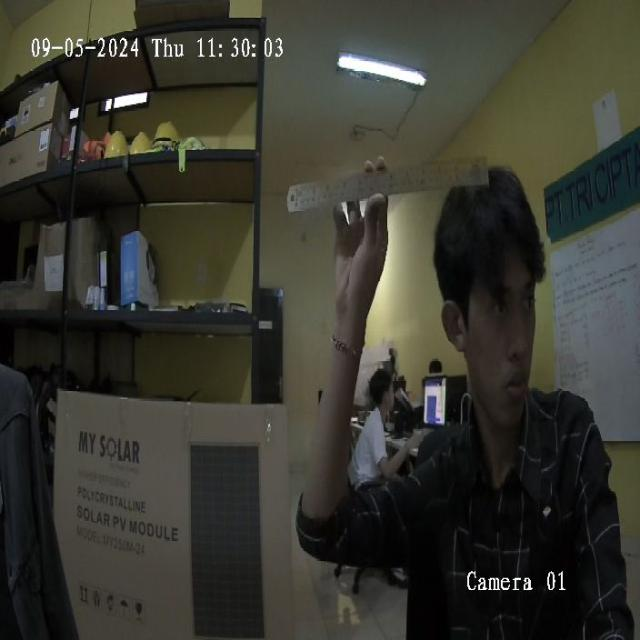Ruler: (286, 160, 488, 212)
